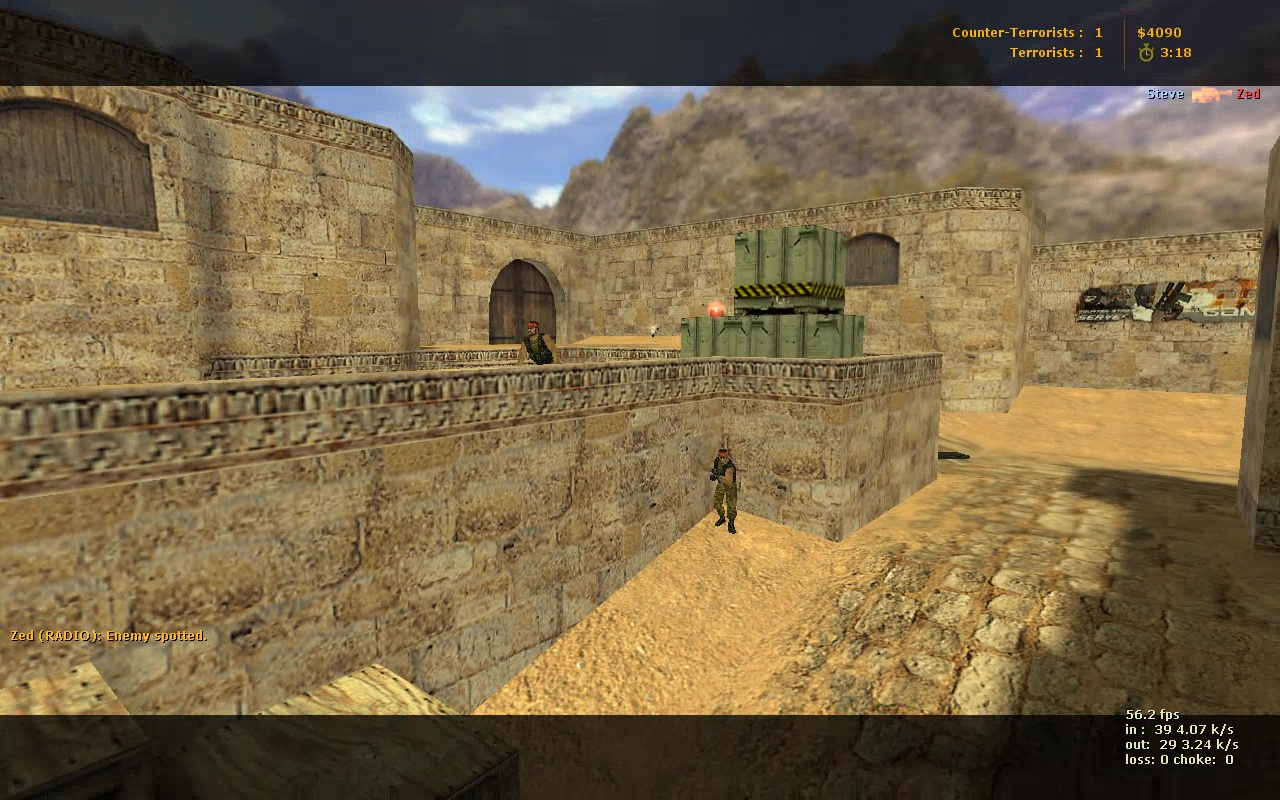terr1: (701, 446, 742, 538), (518, 320, 560, 364)
